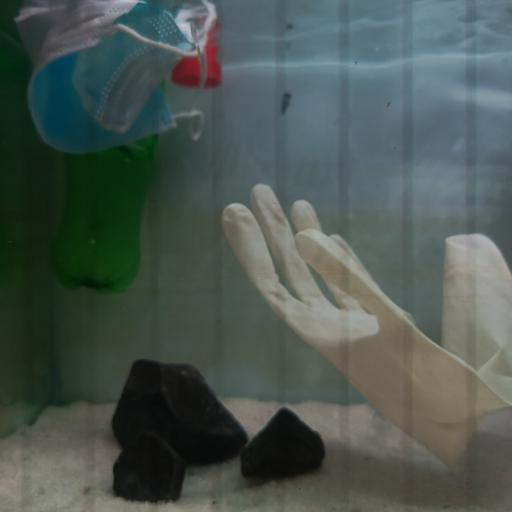bottle_cap: (174, 61, 222, 88)
glove: (219, 182, 512, 470)
mask: (26, 0, 206, 156)
plastic_bottle: (50, 142, 148, 296)
